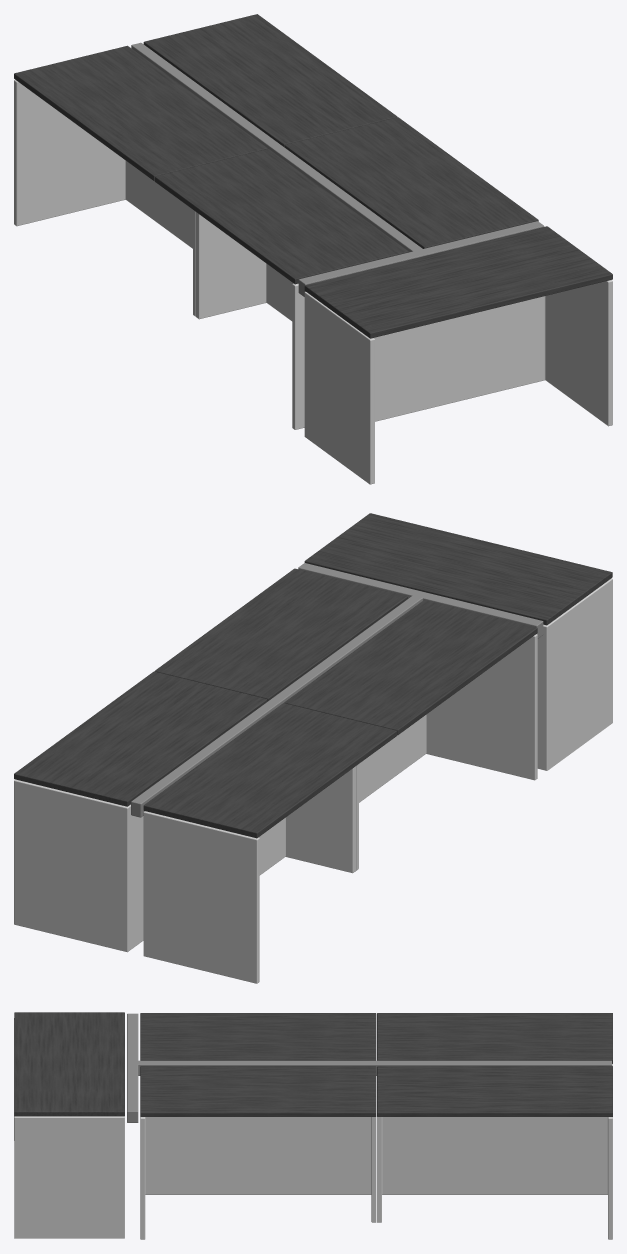
File: deskModel.fbx
3 views of the same model, one above another, from view 1: azimuth 30°, elevation 25°; view 2: azimuth 150°, elevation 25°; view 3: azimuth 270°, elevation 25° (orthographic). The views are drawn at different scales.
Parts seen in each view (by area): view 1: bottomDesk.001, topDesk.001, topDesk.004, topDesk.002, topDesk.003, topDesk, bottomDesk.002, bottomDesk.004, metalStructure; view 2: bottomDesk.002, bottomDesk, topDesk.002, topDesk, topDesk.001, topDesk.004, topDesk.003, bottomDesk.004, bottomDesk.001, metalStructure; view 3: bottomDesk.003, bottomDesk, bottomDesk.001, topDesk.003, topDesk, topDesk.001, topDesk.004, topDesk.002, metalStructure.
Boxes of the visible parts, x1,y1,x2,y2 form: bottomDesk.001: [304, 280, 612, 484]; topDesk.001: [304, 226, 612, 338]; topDesk.004: [155, 149, 408, 284]; topDesk.002: [14, 45, 267, 181]; topDesk.003: [284, 117, 538, 248]; topDesk: [143, 14, 397, 147]; bottomDesk.002: [14, 80, 195, 316]; bottomDesk.004: [196, 212, 304, 429]; metalStructure: [131, 42, 544, 296]; bottomDesk.002: [143, 766, 355, 983]; bottomDesk: [14, 779, 143, 952]; topDesk.002: [143, 703, 396, 838]; topDesk: [14, 671, 267, 806]; topDesk.001: [304, 513, 612, 625]; topDesk.004: [284, 600, 537, 735]; topDesk.003: [154, 568, 407, 701]; bottomDesk.004: [356, 634, 537, 870]; bottomDesk.001: [537, 578, 612, 770]; metalStructure: [131, 563, 543, 817]; bottomDesk.003: [140, 1117, 376, 1239]; bottomDesk: [377, 1117, 612, 1239]; bottomDesk.001: [14, 1018, 124, 1238]; topDesk.003: [140, 1066, 376, 1116]; topDesk: [377, 1066, 612, 1116]; topDesk.001: [14, 1012, 124, 1116]; topDesk.004: [140, 1013, 376, 1060]; topDesk.002: [377, 1013, 612, 1063]; metalStructure: [127, 1013, 611, 1122].
Size of the model in its own units: 1.22 by 0.727 by 3.09.
4 materials, 2 textured.
